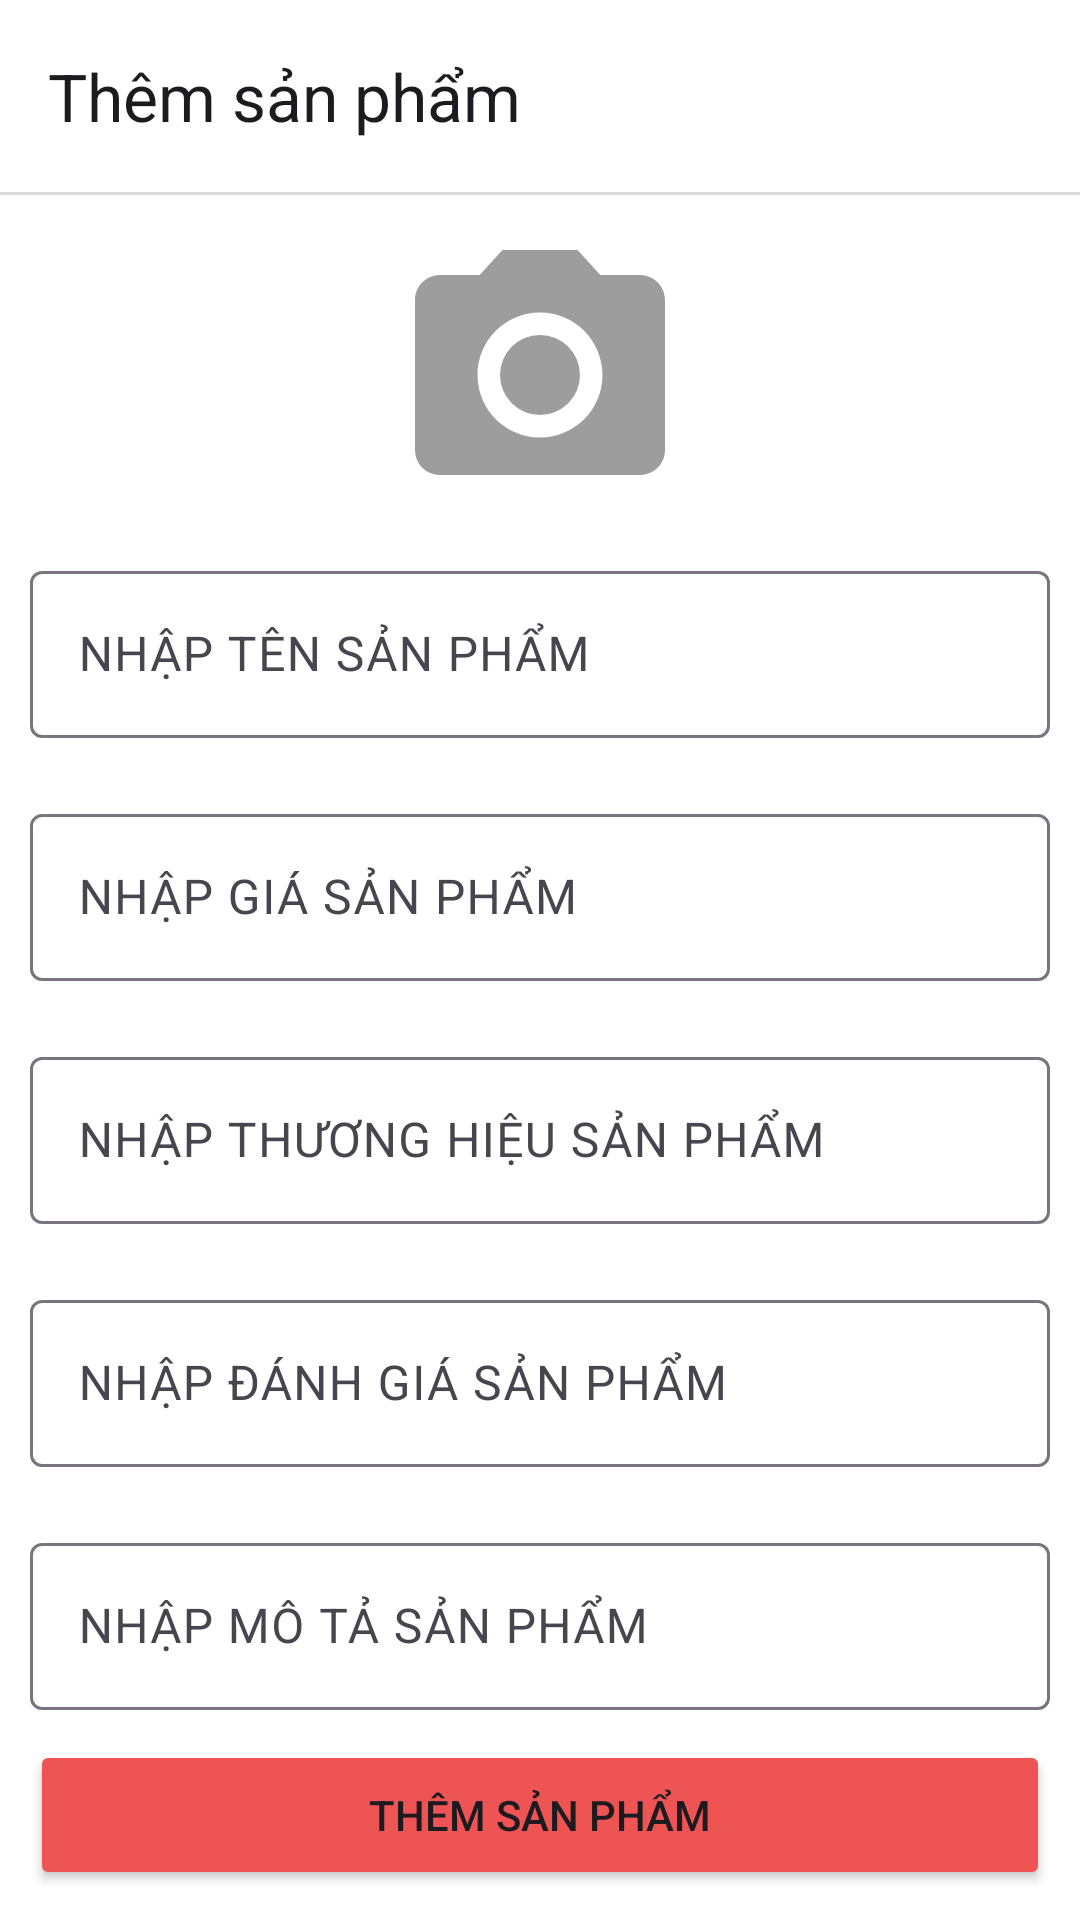

Icons on this 1080px x 1920px Android screen, each with the point to tap as [x,y]:
camera: [540,362]
